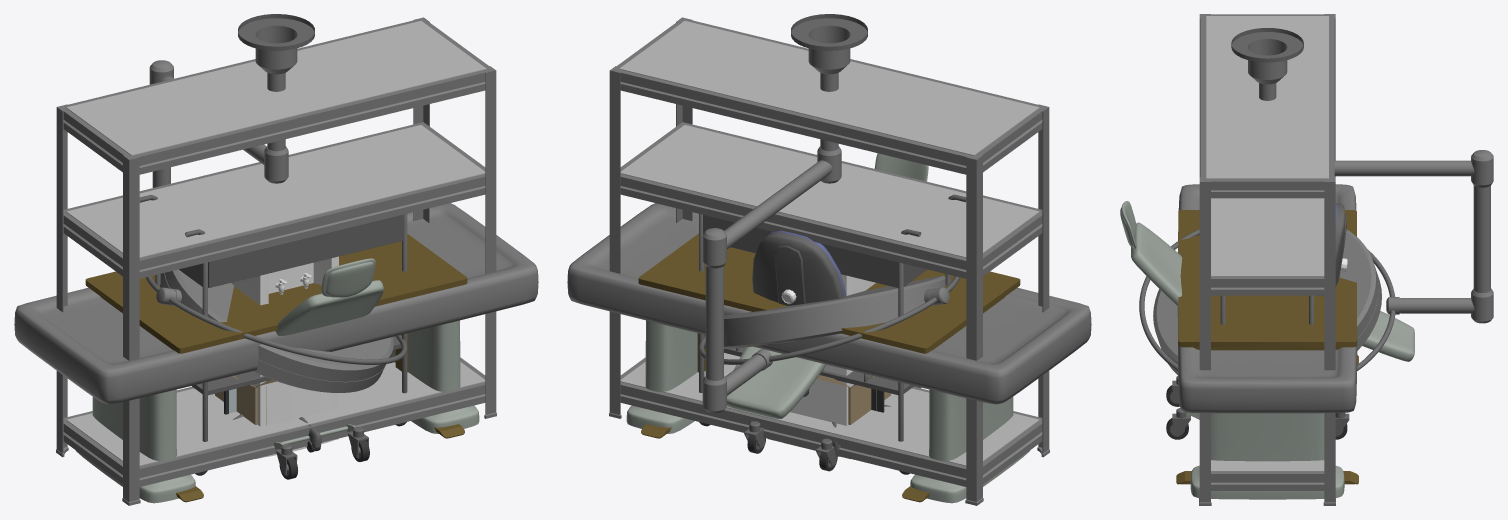
The model's file is Whole_Assets.fbx.
3 views of the same model, side by side, from view 1: azimuth 30°, elevation 25°; view 2: azimuth 150°, elevation 25°; view 3: azimuth 270°, elevation 25° (orthographic). The views are drawn at different scales.
Visible parts, largest first — view 1: industrial_shelving_01, MorgueTable, SurgeryLamp, office_desk, Cart, Surgery_Chair, Box_01, cardboard_box_02; view 2: industrial_shelving_01, MorgueTable, SurgeryLamp, office_desk, Surgery_Chair, Office_Chair, Cart, Box_01, cardboard_box_02; view 3: industrial_shelving_01, MorgueTable, SurgeryLamp, office_desk, Surgery_Chair, Office_Chair.
Boxes of the visible parts, box(x1,y1,x2,y2) form: industrial_shelving_01: box(56, 17, 496, 505); MorgueTable: box(14, 203, 538, 503); SurgeryLamp: box(146, 14, 407, 392); office_desk: box(85, 234, 467, 502); Cart: box(139, 195, 407, 475); Surgery_Chair: box(274, 258, 383, 479); Box_01: box(231, 256, 338, 458); cardboard_box_02: box(215, 375, 276, 458); industrial_shelving_01: box(609, 17, 1049, 505); MorgueTable: box(567, 203, 1091, 503); SurgeryLamp: box(698, 14, 959, 413); office_desk: box(638, 233, 1020, 502); Surgery_Chair: box(727, 153, 928, 471); Office_Chair: box(749, 230, 890, 456); Cart: box(699, 194, 966, 474); Box_01: box(790, 274, 875, 425); cardboard_box_02: box(768, 375, 890, 458); industrial_shelving_01: box(1199, 14, 1335, 505); MorgueTable: box(1177, 184, 1357, 499); SurgeryLamp: box(1139, 28, 1493, 374); office_desk: box(1176, 210, 1358, 484); Surgery_Chair: box(1120, 201, 1414, 439); Office_Chair: box(1317, 203, 1347, 296).
Bounding box in the file's own units: 213 × 188 × 167.
